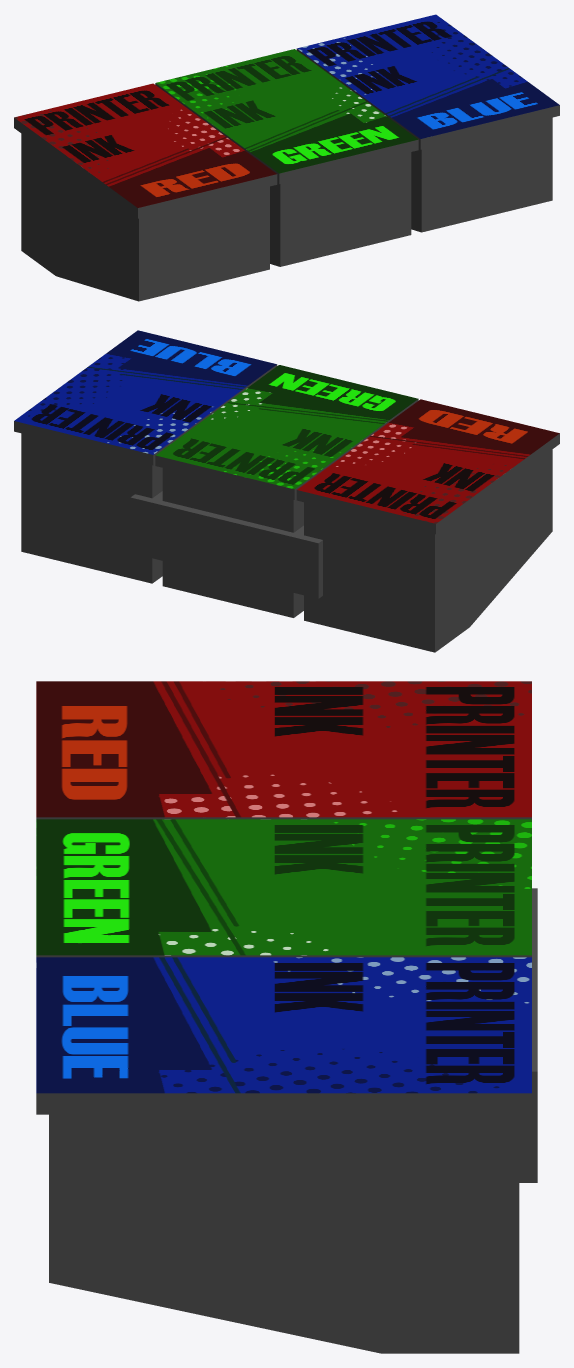
Rendered from PRINTER_INK.fbx.
The picture shows the model from 3 angles, top to bottom: view 1: azimuth 30°, elevation 25°; view 2: azimuth 150°, elevation 25°; view 3: azimuth 270°, elevation 25°; orthographic projection. The views are drawn at different scales.
Parts seen in each view (by area): view 1: printer_ink; view 2: printer_ink; view 3: printer_ink.
Part boxes in pixels (left/top/right/bottom): printer_ink: left=14, top=14, right=559, bottom=301; printer_ink: left=14, top=330, right=559, bottom=652; printer_ink: left=36, top=681, right=537, bottom=1353.
Bounding box in the file's own units: 644 × 193 × 331.
